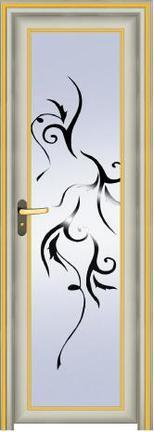door: (8, 12, 138, 418)
